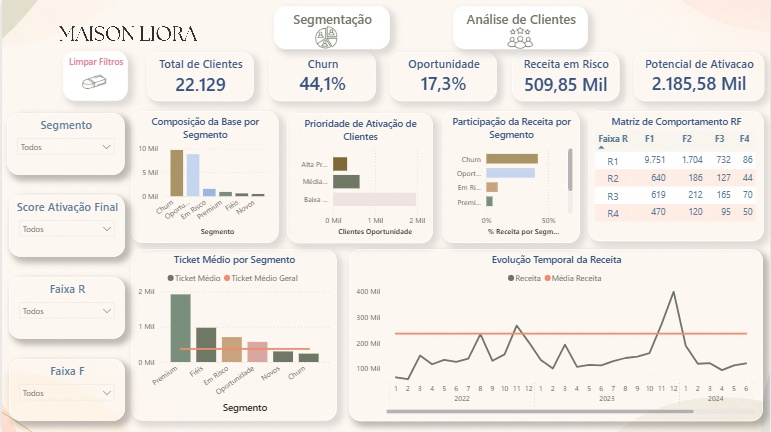

This screenshot's page, from the dashboard's own definition file:
{"tool":"powerbi","page":{"name":"Segmentação","canvas":[1280,720],"ordinal":1},"visuals":[{"type":"clusteredColumnChart","title":"Composição da Base por Segmento","fields":{"Category":["DimCliente.Segmento"],"Y":["#Medidas.TOTAL de Clientes"]},"box":[90.3,108.4,400.3,219.6],"z":0},{"type":"clusteredBarChart","title":"Participação da Receita por Segmento","fields":{"Category":["DimCliente.Segmento"],"Y":["#Medidas.% Receita por Segmento"]},"box":[943.8,111.2,248.8,543.5],"z":1000},{"type":"lineClusteredColumnComboChart","title":"Ticket Médio por Segmento","fields":{"Y":["#Medidas.Ticket Médio"],"Category":["DimCliente.Segmento"],"Y2":["#Medidas.Ticket Médio Geral"]},"box":[90.4,368.3,400.3,286.3],"z":2000},{"type":"clusteredBarChart","title":"Prioridade de Ativação de Clientes","fields":{"Y":["#Med. Segmento.Clientes Oportunidade"],"Category":["DimCliente.Score Ativação Final"]},"box":[546.3,111.2,355.8,216.8],"z":3000},{"type":"pivotTable","title":"Matriz de Comportamento RF","fields":{"Rows":["DimCliente.Faixa R"],"Columns":["DimCliente.Faixa F"],"Values":["#Medidas.Clientes"]},"box":[546.3,368.3,355.8,286.3],"z":4000},{"type":"image","box":[0,27.1,420,75.7],"z":5000},{"type":"actionButton","box":[1141.2,37.5,65.3,51.4],"z":6000},{"type":"textbox","title":"SEGMENTAÇÃO","box":[382.2,36.1,533.7,72.3],"z":7000}]}

Visuals, with their boxes in screenshot pixels (x1, y1, x2, y2), scaled from the page's 1280x720 canvas onto the 771x432 screenshot:
"Composição da Base por Segmento" clusteredColumnChart: box=[54, 65, 296, 197]
"Participação da Receita por Segmento" clusteredBarChart: box=[568, 67, 718, 393]
"Ticket Médio por Segmento" lineClusteredColumnComboChart: box=[54, 221, 296, 393]
"Prioridade de Ativação de Clientes" clusteredBarChart: box=[329, 67, 543, 197]
"Matriz de Comportamento RF" pivotTable: box=[329, 221, 543, 393]
image: box=[0, 16, 253, 62]
actionButton: box=[687, 22, 727, 53]
"SEGMENTAÇÃO" textbox: box=[230, 22, 552, 65]
